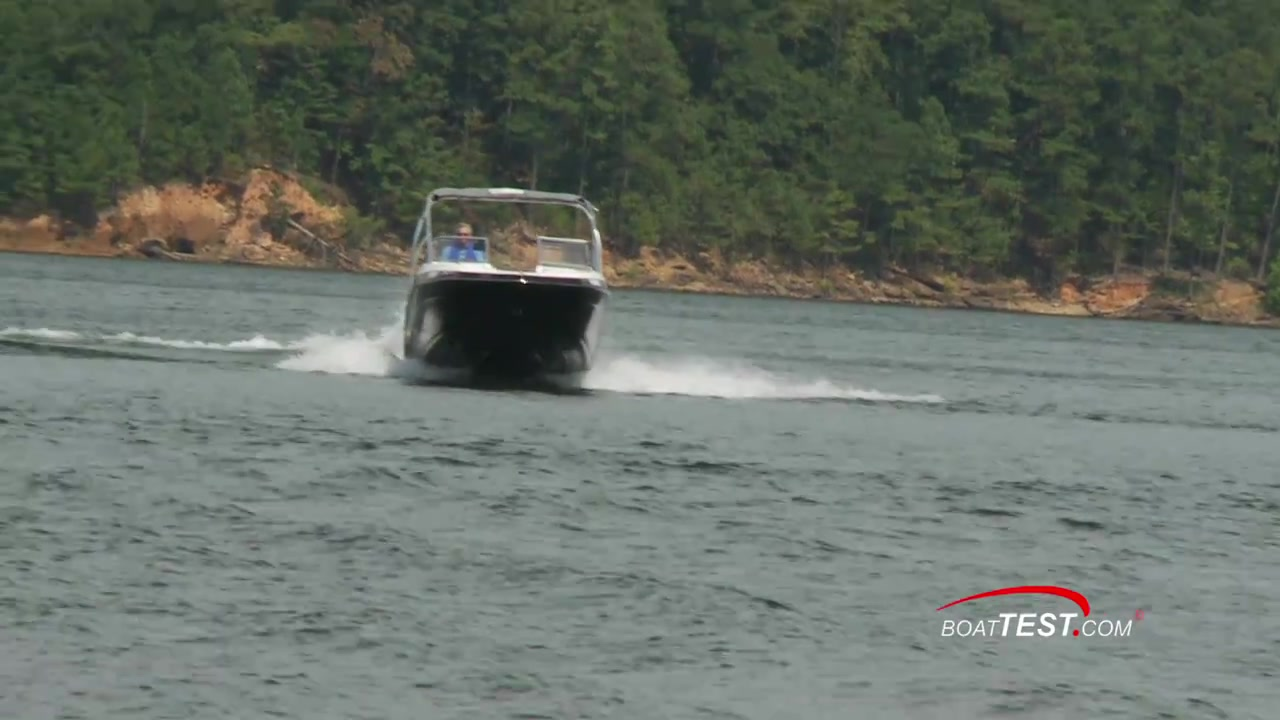boat: (388, 178, 612, 387)
